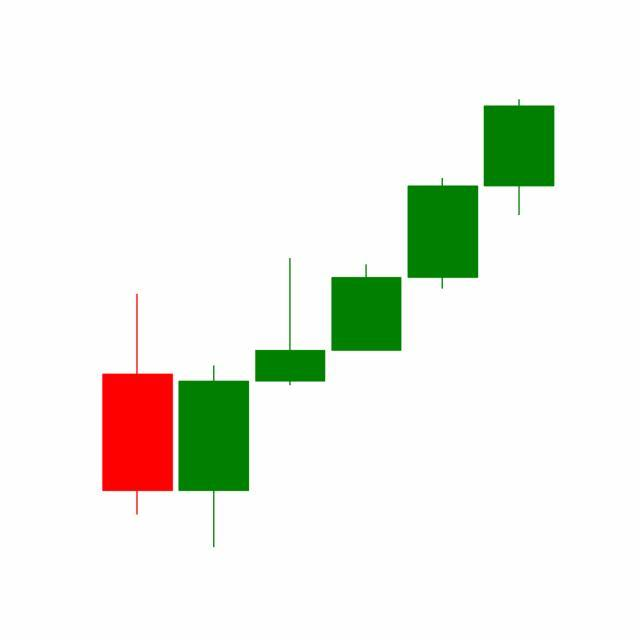Marubozu: (404, 176, 482, 291)
